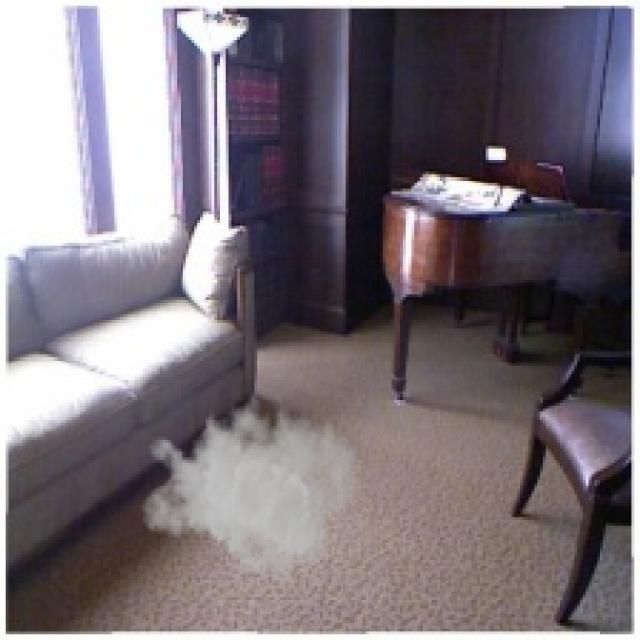smoke: (140, 383, 360, 583)
